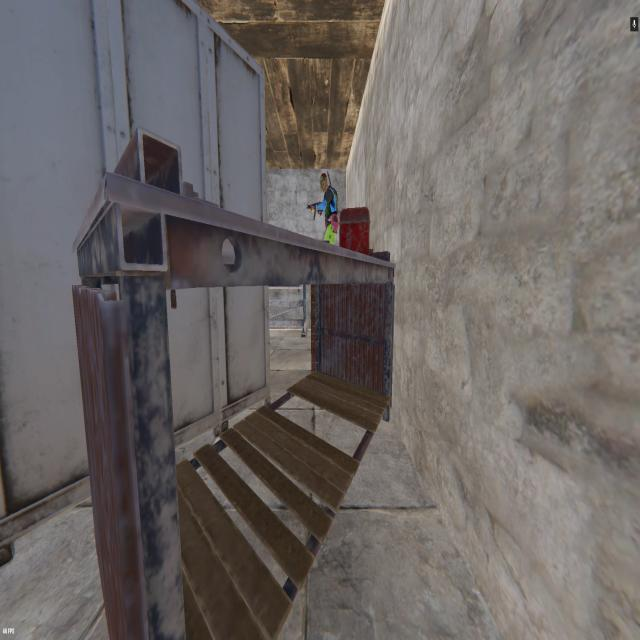Player: (312, 170, 341, 246)
